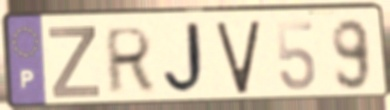5: (273, 19, 318, 92)
9: (329, 16, 373, 91)
J: (161, 19, 212, 99)
R: (105, 24, 156, 97)
V: (213, 17, 263, 97)
Z: (46, 24, 103, 101)
